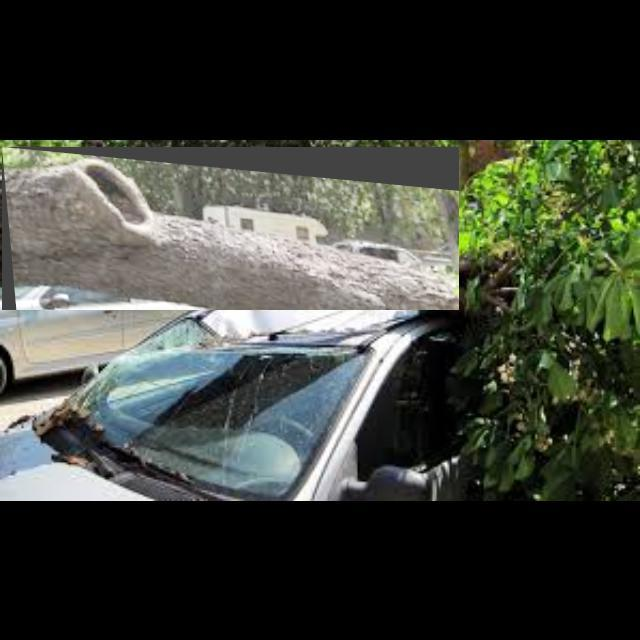fallen_tree: (2, 147, 460, 311)
